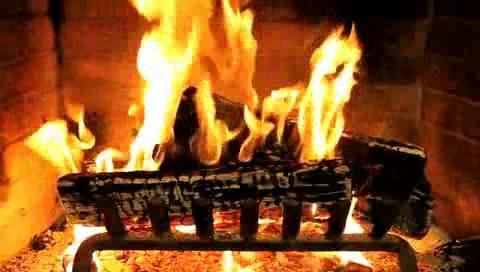fire: (19, 0, 480, 238)
